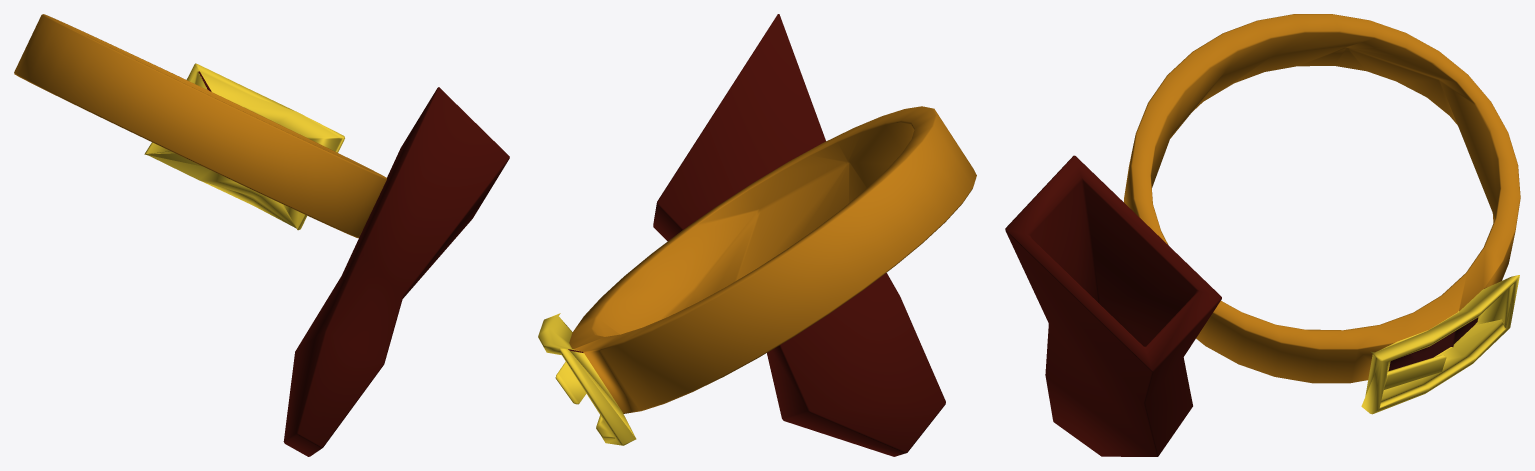
The model's file is HipHolster.fbx.
3 renders of one model, left to right at view 1: azimuth 30°, elevation 25°; view 2: azimuth 150°, elevation 25°; view 3: azimuth 270°, elevation 25°, orthographic. The views are drawn at different scales.
Visible parts, largest first — view 1: Final; view 2: Final; view 3: Final.
Part boxes in pixels (box(x1,y1,x2,y2)): Final: box(14, 14, 509, 456); Final: box(538, 14, 976, 456); Final: box(1005, 14, 1520, 456).
Bounding box in the file's own units: 334 × 350 × 426.
Materials: 1 (1 with a texture image).
